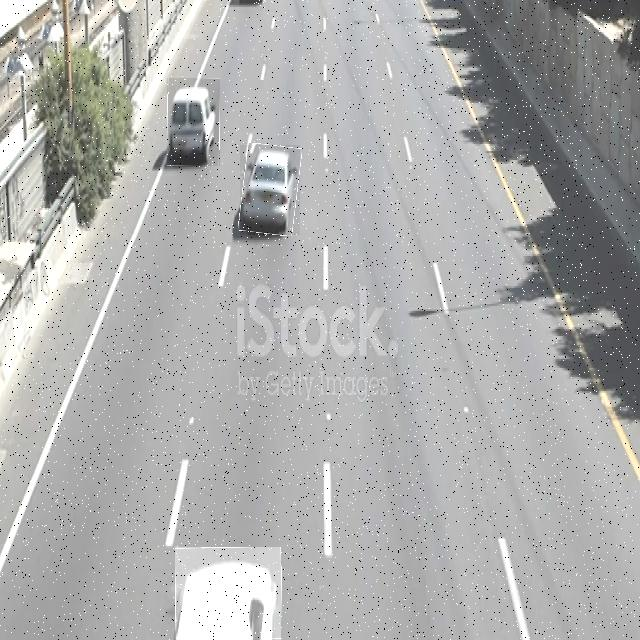Car: (175, 547, 281, 640), (240, 145, 300, 235), (167, 78, 220, 166)
